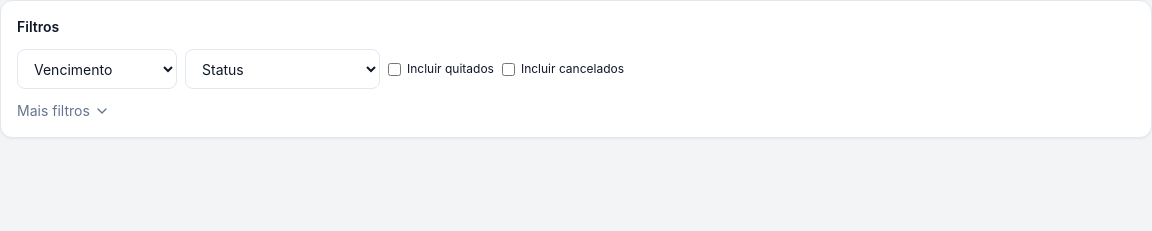
Test: RelatorioFiltrosPanel ERP 4.0.14.6.1 › expande Mais filtros ao clicar
Click the button "Mais filtros": coordinates (63, 111) left=17, top=101, right=110, bottom=121
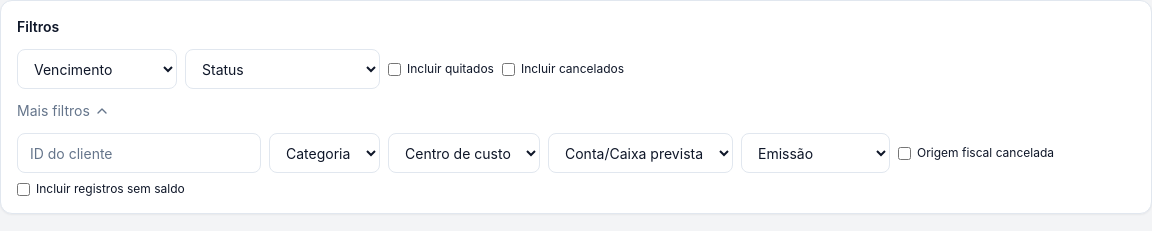
Check: the checkbox labelled "Incluir registros sem saldo" is shown, box left=17, top=182, right=30, bottom=196
